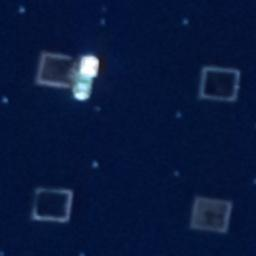square_cover: (36, 48, 84, 93), (186, 191, 235, 234)
square_solid: (29, 180, 78, 227), (196, 61, 242, 104)
